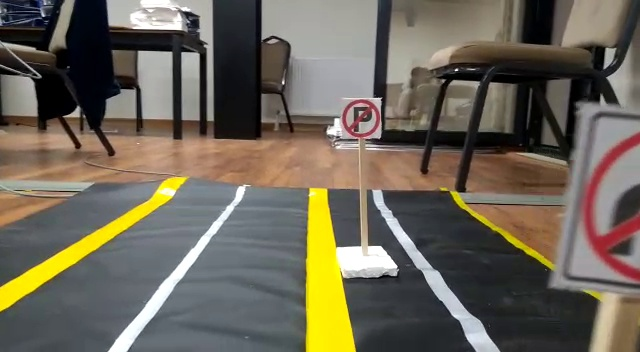park_yapilmaz: (339, 93, 382, 142)
saga_donulmez: (573, 106, 640, 299)
